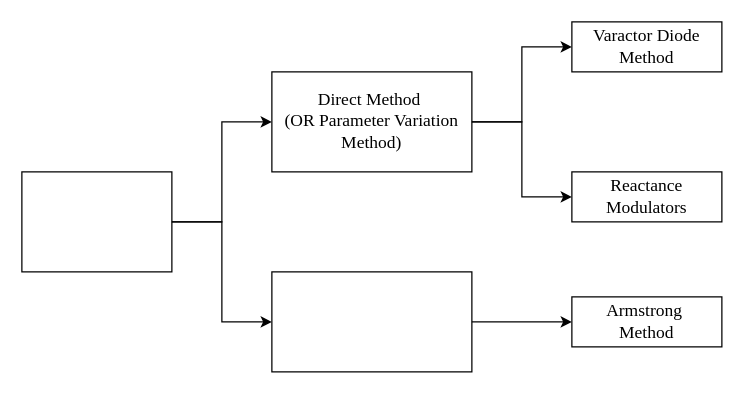
Some shapes in this 744 by 394 pixel diagram are drawn without their labels. The centre of each missing label's shape, as x and y in pixels:
"FM Generation" goes at point 96,221.
"Indirect Method" goes at point 371,321.
